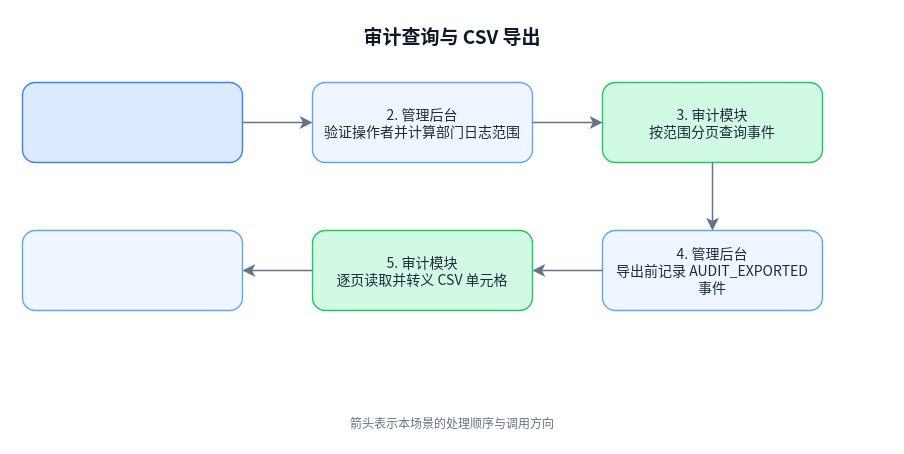
Image size: 904x454. Some labels were removed from this diagram. Here are the shapes that lost their labels. From the top down, the centre of each, then its label:
the point at 132,122: 1. 管理员 筛选时间、事件及目标对象
the point at 132,270: 6. 浏览器 接收 UTF-8 文件；日志只证明发起导出
